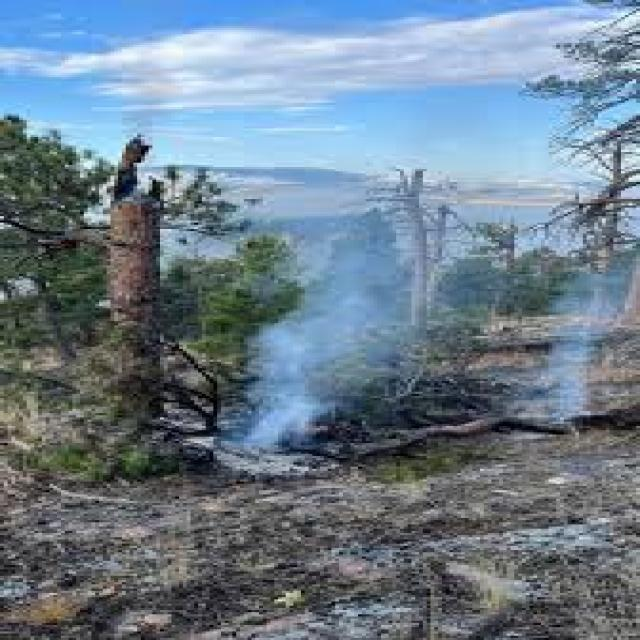Smoke: (218, 176, 442, 472), (526, 274, 622, 430)
